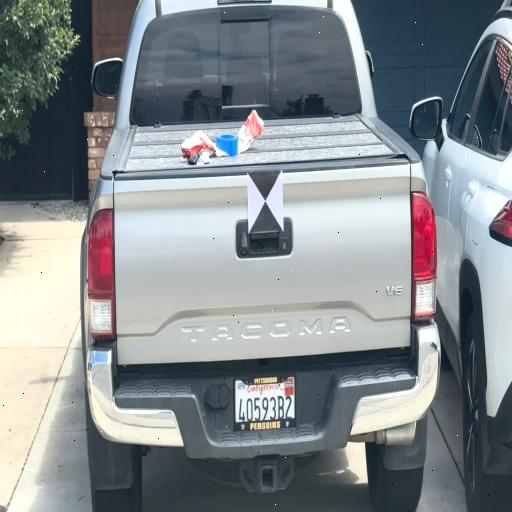target: (248, 172, 284, 231)
